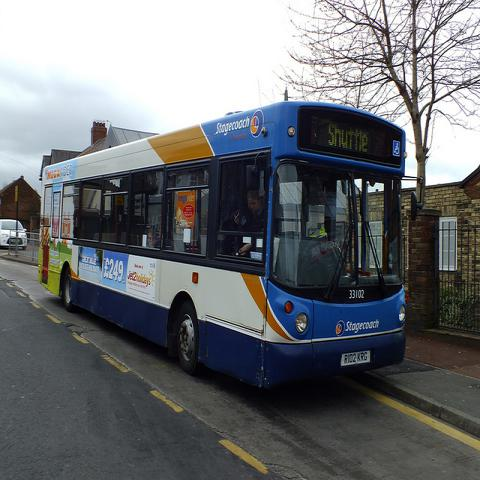bus: (32, 100, 412, 396)
car: (0, 220, 28, 248)
